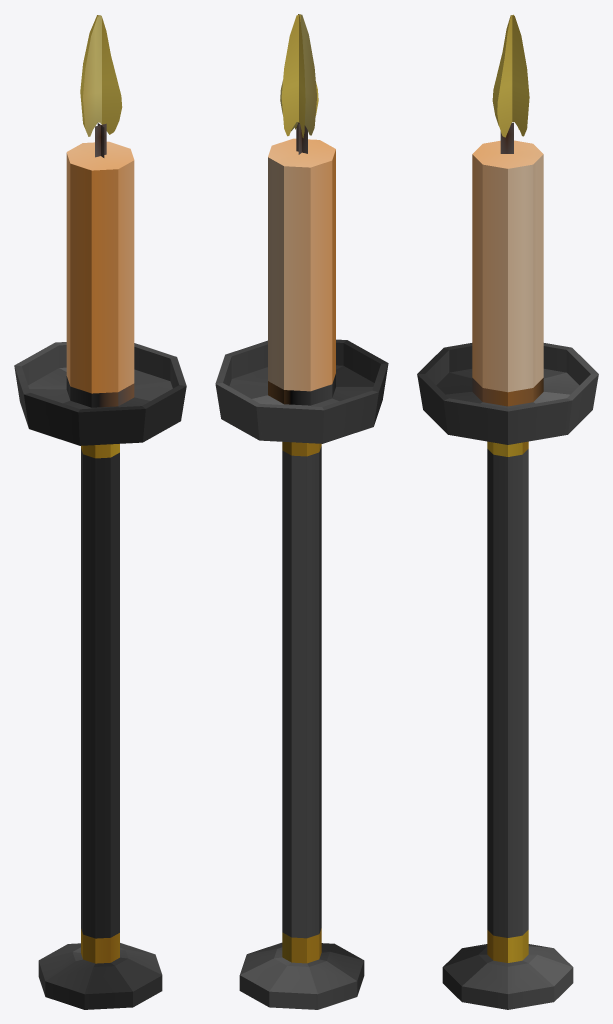
Rendered from candle_338x11.obj.
3 renders of one model, left to right at view 1: azimuth 30°, elevation 25°; view 2: azimuth 150°, elevation 25°; view 3: azimuth 270°, elevation 25°, orthographic.
Parts seen in each view (by area): view 1: candle_338x11; view 2: candle_338x11; view 3: candle_338x11.
Boxes of the visible parts, left/top/right/bottom form: candle_338x11: left=14, top=15, right=186, bottom=1009; candle_338x11: left=215, top=14, right=388, bottom=1009; candle_338x11: left=417, top=14, right=598, bottom=1009.
Size of the model in its own units: 0.3725 by 2.25 by 0.3821.
